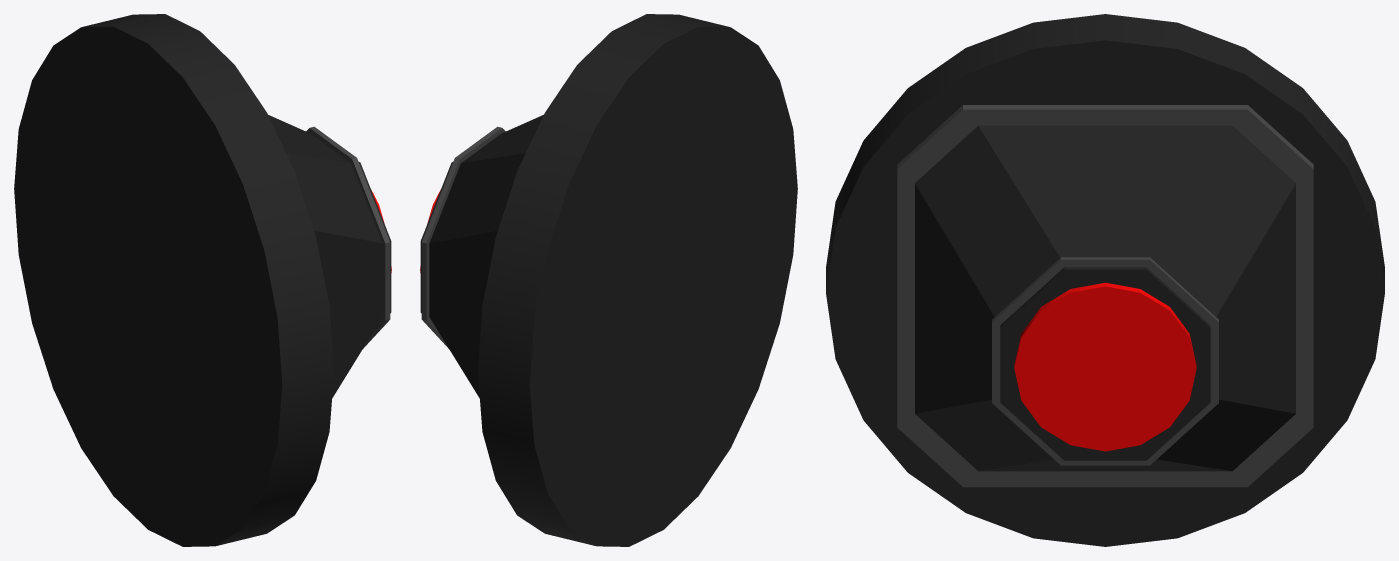
Rendered from LaserMuzzle_Horizontal.fbx.
3 renders of one model, left to right at view 1: azimuth 30°, elevation 25°; view 2: azimuth 150°, elevation 25°; view 3: azimuth 270°, elevation 25°, orthographic. The views are drawn at different scales.
Parts seen in each view (by area): view 1: LaserMuzzle_Horizontal; view 2: LaserMuzzle_Horizontal; view 3: LaserMuzzle_Horizontal.
Boxes of the visible parts, x1,y1,x2,y2 form: LaserMuzzle_Horizontal: [14, 14, 391, 546]; LaserMuzzle_Horizontal: [420, 14, 797, 546]; LaserMuzzle_Horizontal: [826, 14, 1384, 546].
Size of the model in its own units: 27.67 by 64.26 by 64.26.
